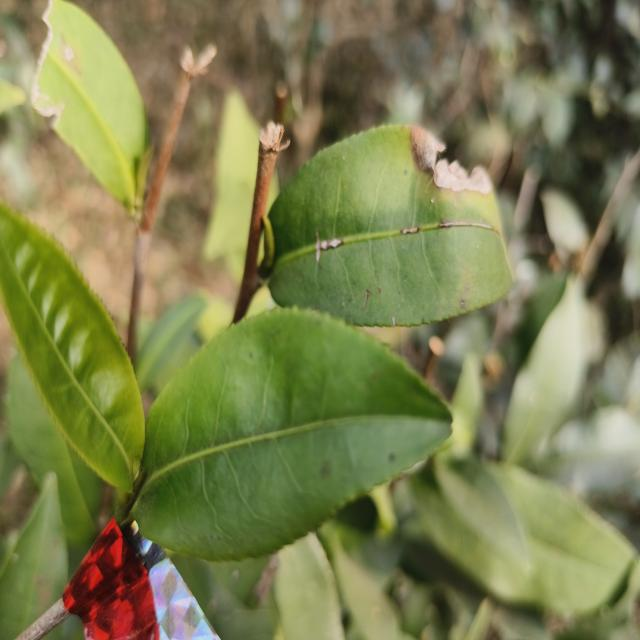Leaf: (132, 309, 451, 561), (269, 125, 512, 326), (0, 205, 145, 491), (407, 465, 635, 613), (32, 0, 150, 216), (6, 353, 103, 546), (503, 277, 588, 463), (198, 534, 344, 640), (0, 473, 68, 640), (435, 454, 529, 568)
